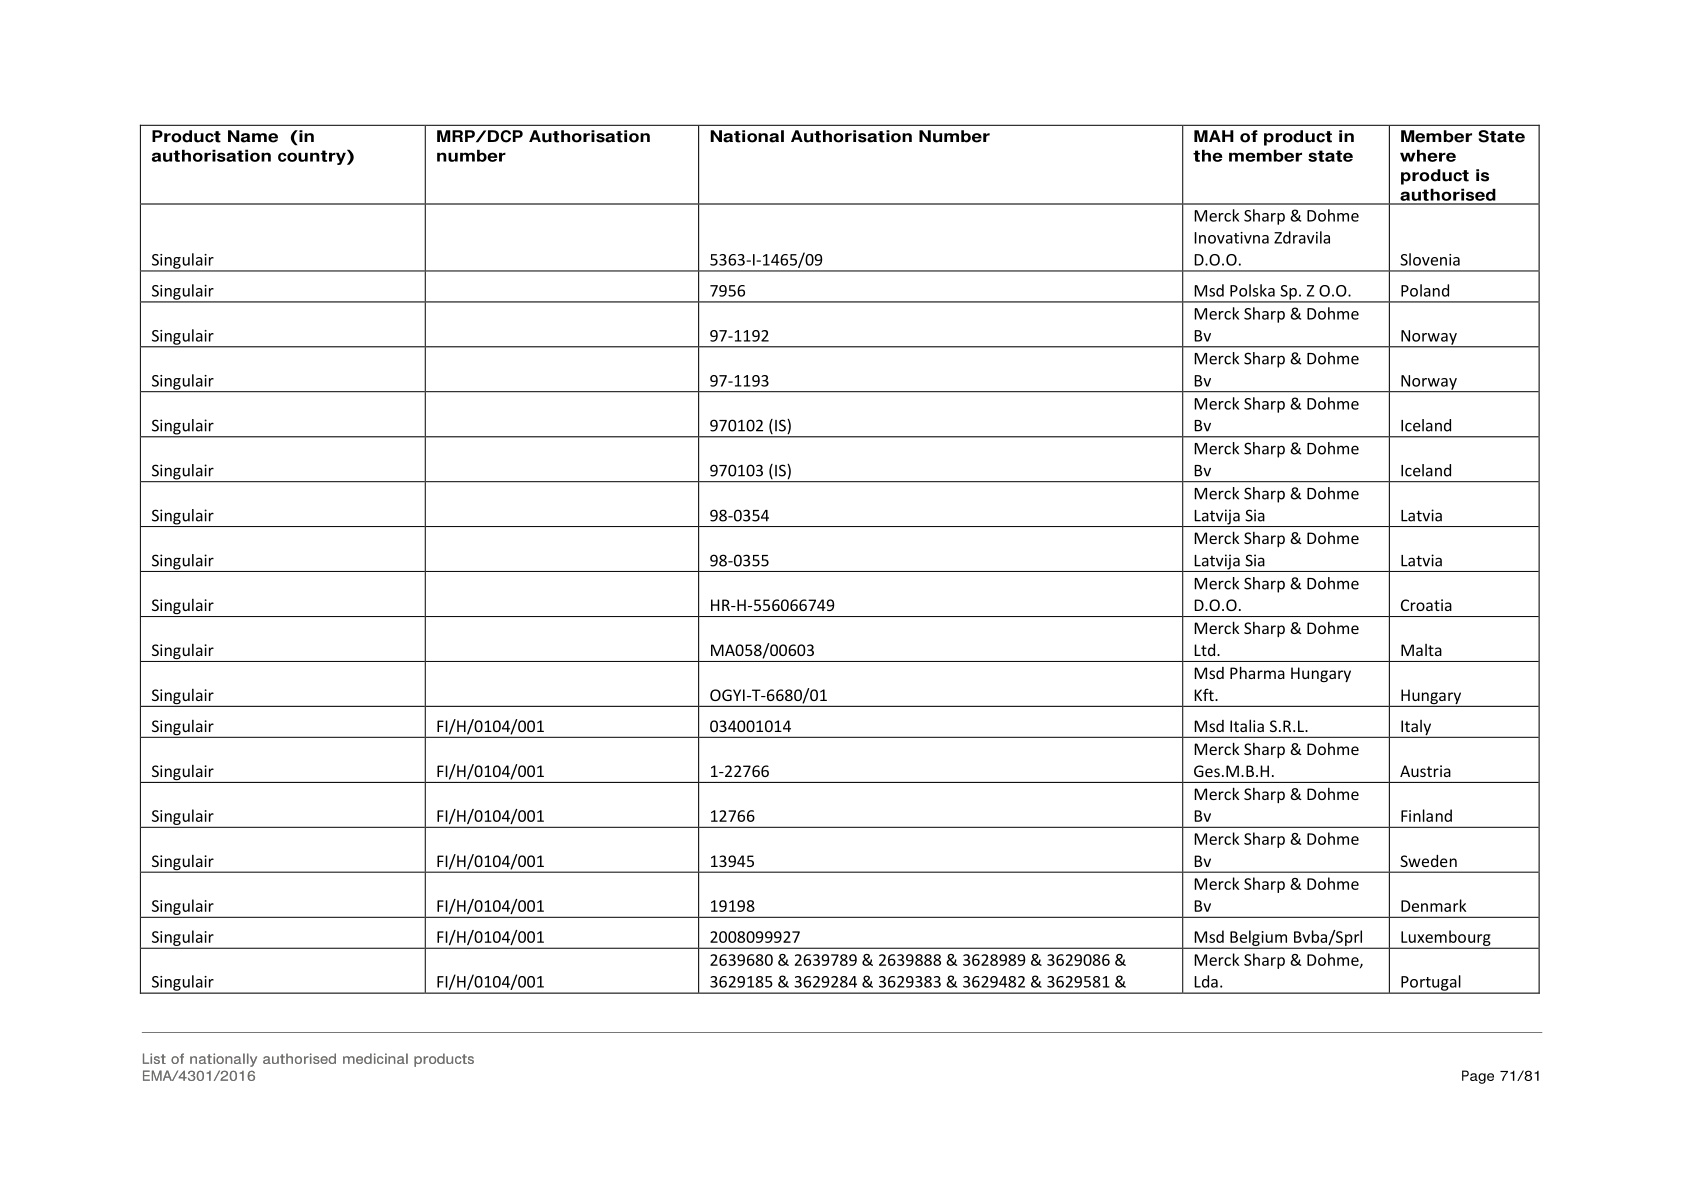full_lined: (125, 110, 1563, 1008)
